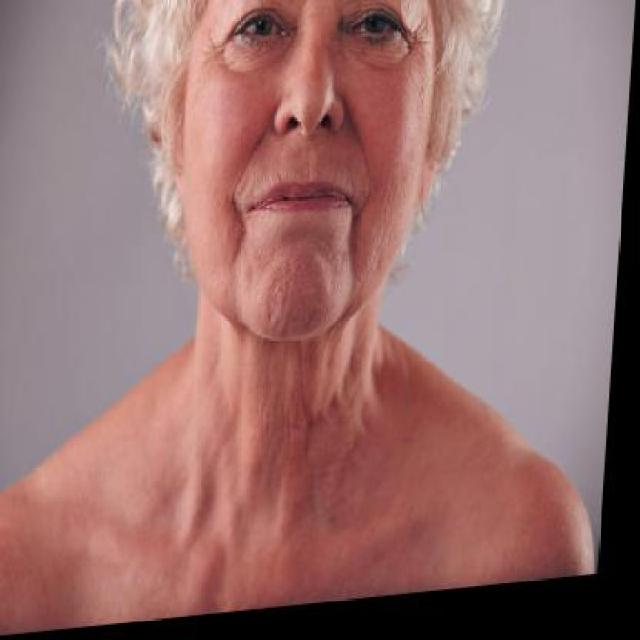Healthy: (204, 327, 382, 515)
